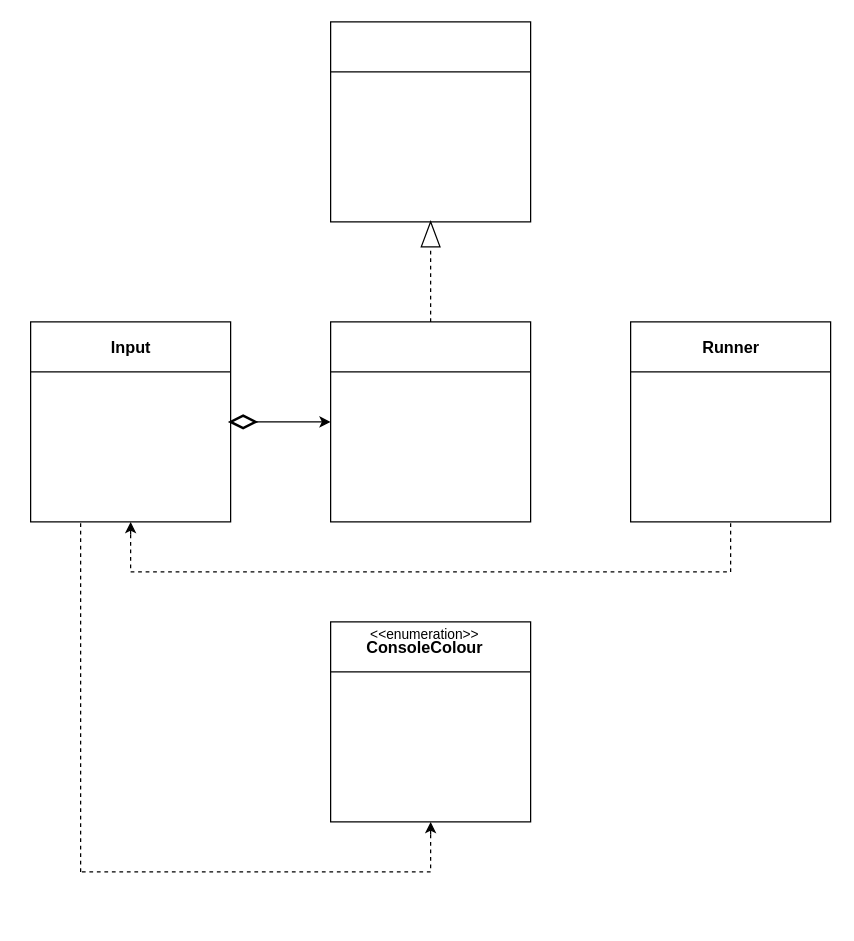
Some shapes in this 854 by 941 pixel diagram are drawn without their labels. The centre of each missing label's shape, as x and y in pixels:
"<<interface>> APIWordParser" belongs at (x=430, y=121).
"WordParser" belongs at (x=430, y=421).
